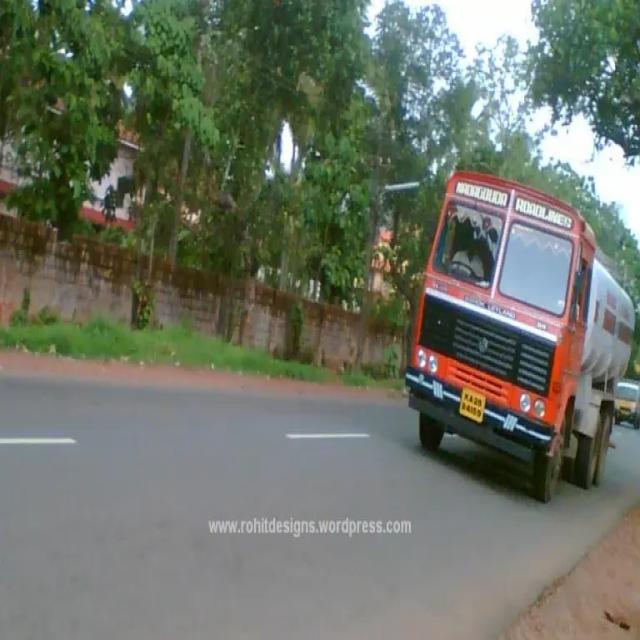Plate: (458, 384, 488, 425)
truck: (414, 157, 631, 518)
